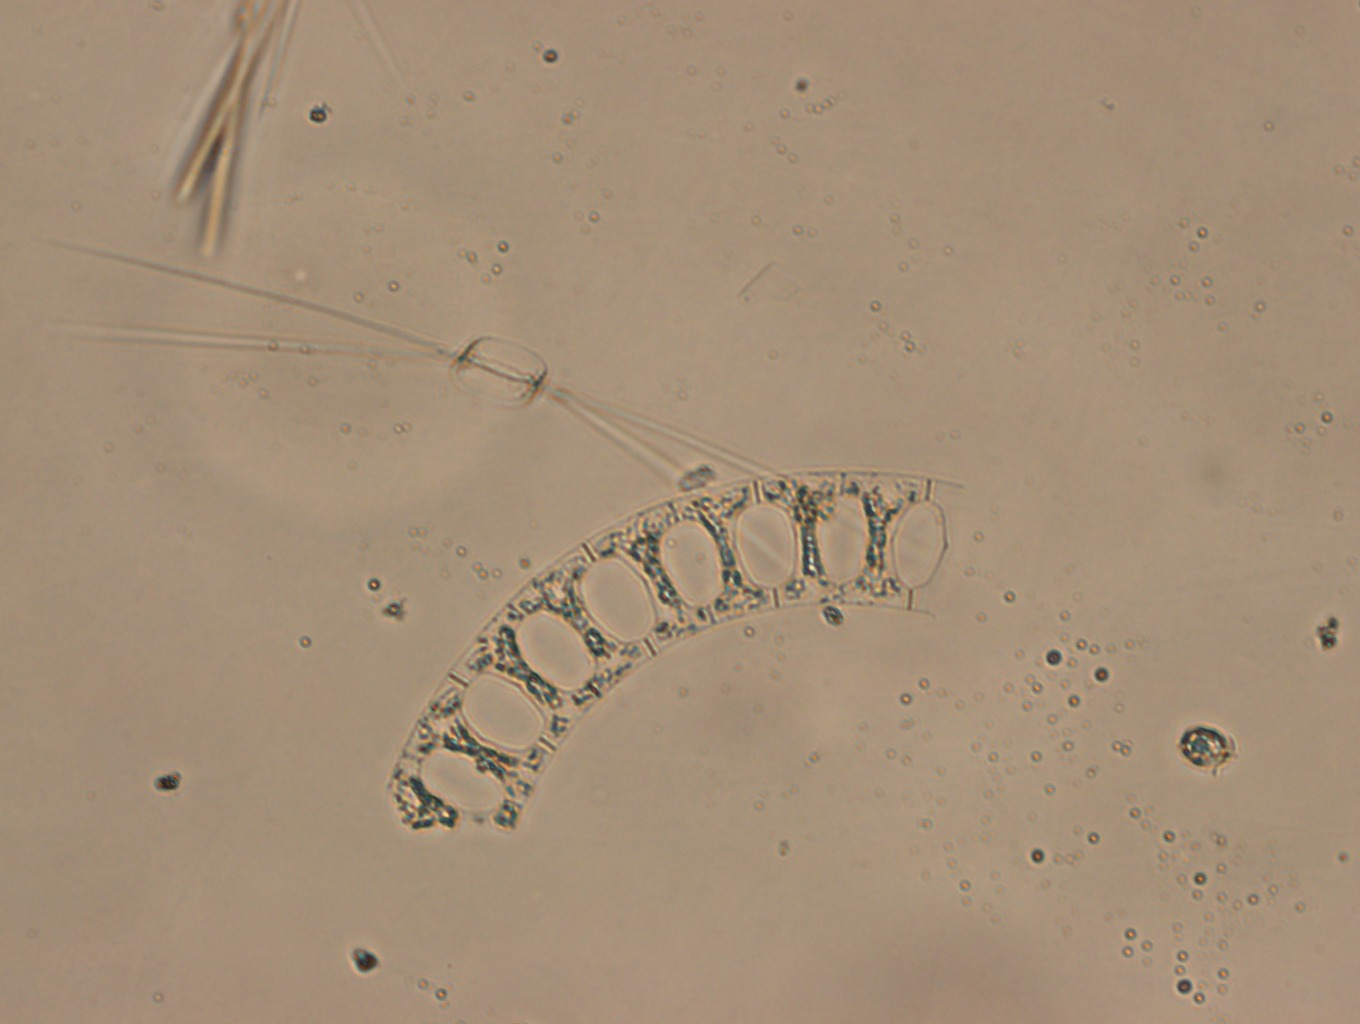chaetoceros: (41, 234, 915, 653)
eucampia: (384, 470, 967, 837)
